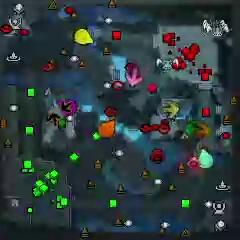p2: (198, 149, 215, 168)
p3: (58, 99, 76, 116)
p4: (75, 28, 94, 46)
p5: (99, 118, 116, 139)
x1: (126, 66, 143, 87)
x2: (160, 101, 180, 118)
x4: (185, 121, 202, 139)
x5: (195, 120, 210, 140)
x5Clone: (47, 112, 60, 126), (60, 100, 73, 113)
